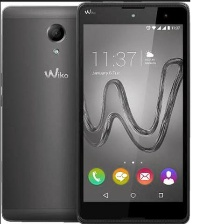phone: (0, 3, 120, 224), (74, 0, 192, 224)
